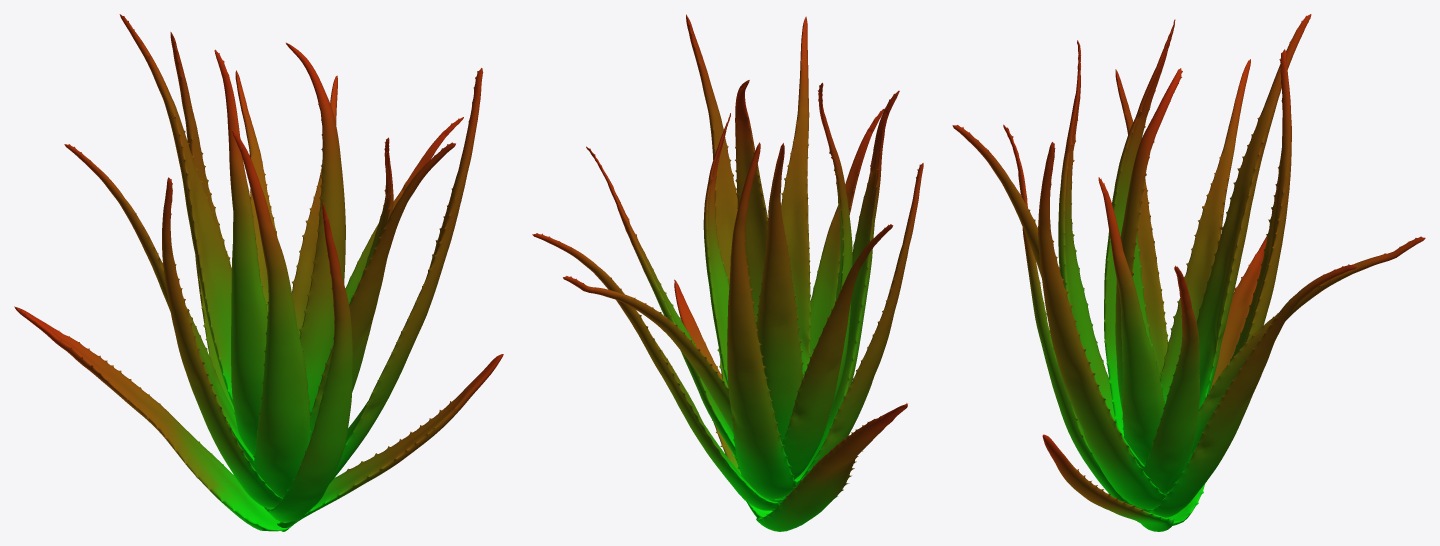
The model's file is Aloe Vera_LOD0_Var10_ve4tbbrha.fbx.
3 views of the same model, side by side, from view 1: azimuth 30°, elevation 25°; view 2: azimuth 150°, elevation 25°; view 3: azimuth 270°, elevation 25° (orthographic). The views are drawn at different scales.
Visible parts, largest first — view 1: _74bz_Var10_LOD0; view 2: _74bz_Var10_LOD0; view 3: _74bz_Var10_LOD0.
Part boxes in pixels (<box>): _74bz_Var10_LOD0: <box>14,14,503,531</box>; _74bz_Var10_LOD0: <box>532,14,923,531</box>; _74bz_Var10_LOD0: <box>952,14,1425,531</box>.
Bounding box in the file's own units: 42.1 × 49.64 × 44.07.
